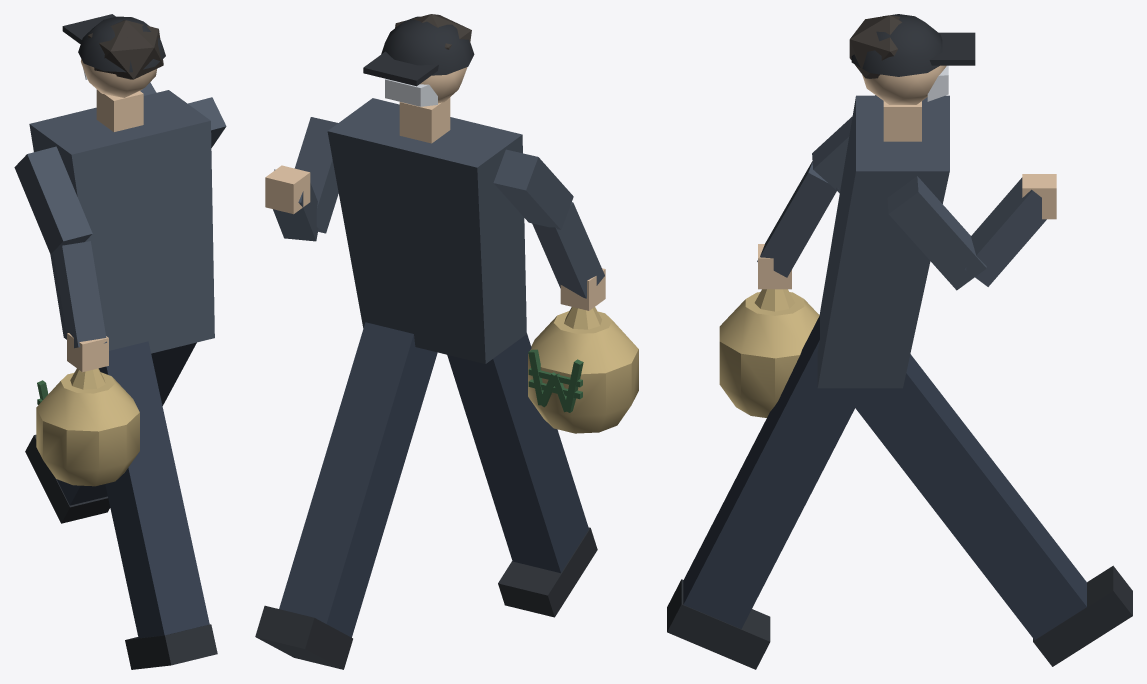
File: culprit_run.glb
3 renders of one model, left to right at view 1: azimuth 30°, elevation 25°; view 2: azimuth 150°, elevation 25°; view 3: azimuth 270°, elevation 25°, orthographic. The views are drawn at different scales.
Parts seen in each view (by area): view 1: Body, LegL, LegR; view 2: Body, LegR, LegL; view 3: Body, LegR, LegL.
Boxes of the visible parts, x1,y1,x2,y2 form: Body: (14, 14, 226, 486); LegL: (99, 341, 217, 669); LegR: (25, 342, 196, 523); Body: (265, 14, 638, 433); LegR: (255, 322, 437, 669); LegL: (447, 334, 597, 617); Body: (719, 14, 1056, 417); LegR: (840, 354, 1132, 666); LegL: (667, 315, 854, 669).
Size of the model in its own units: 0.7071 by 1.71 by 1.09.
